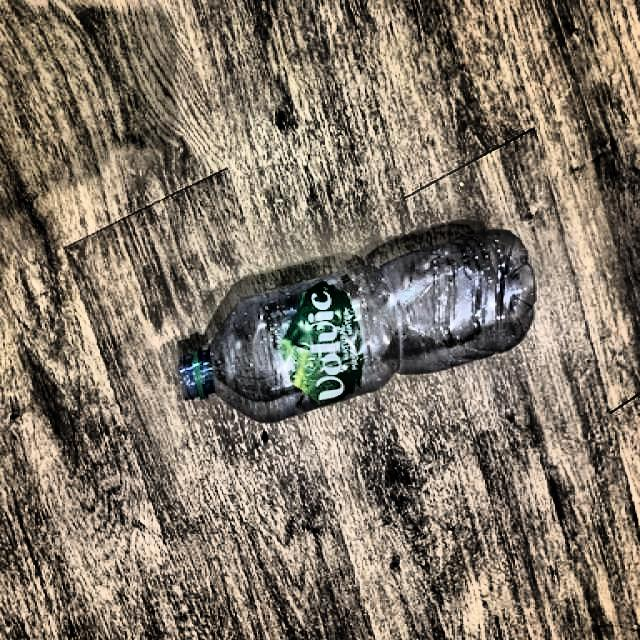plastic bottle: (178, 222, 536, 422)
